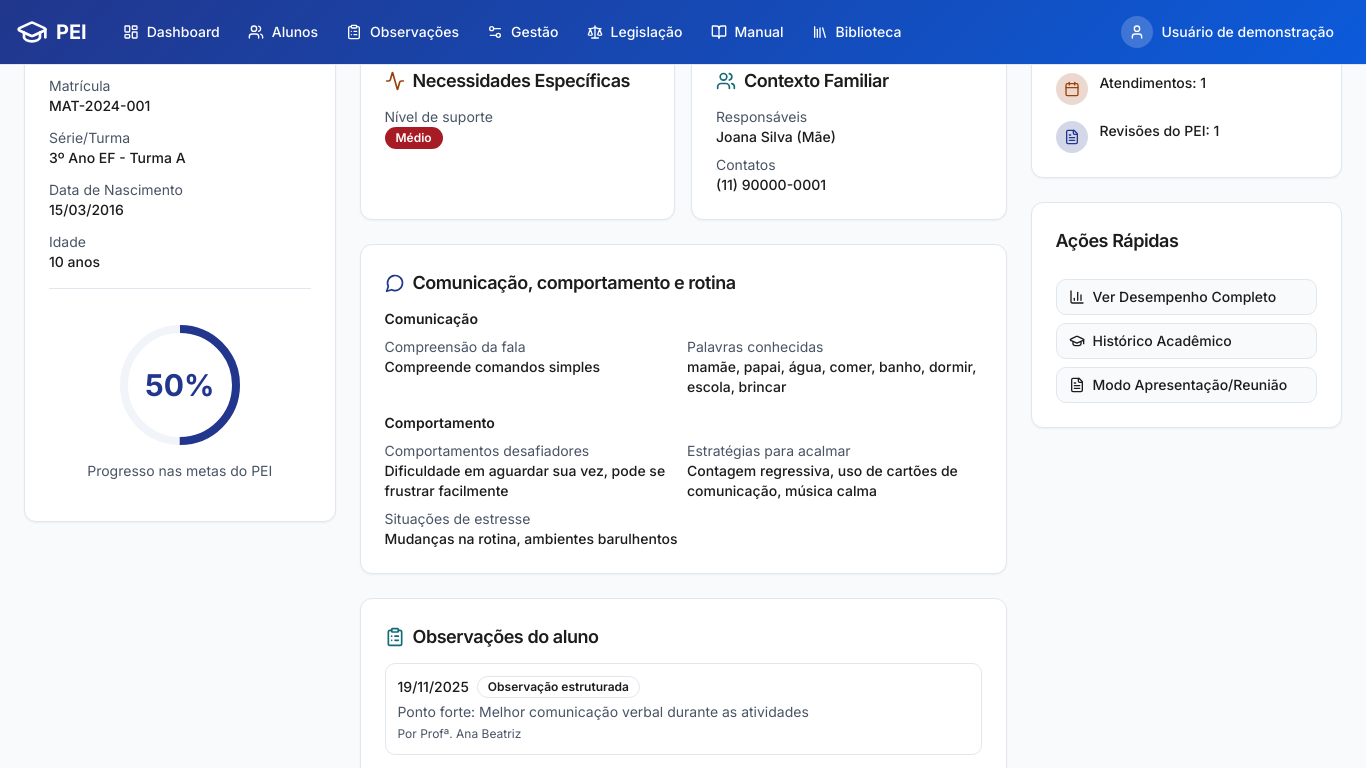
Modo Apresentação: os slides vêm do plano › a apresentação anda pelos slides do estudante, e o exemplo fixo sumiu
The width and height of the screenshot is (1366, 768).
(page scrolled)
What coordinates should you click on to do the following:
click the button "Modo Apresentação/Reunião"
I would click on:
 (1186, 384)
Its box is [1056,366,1317,402].
(page scrolled)
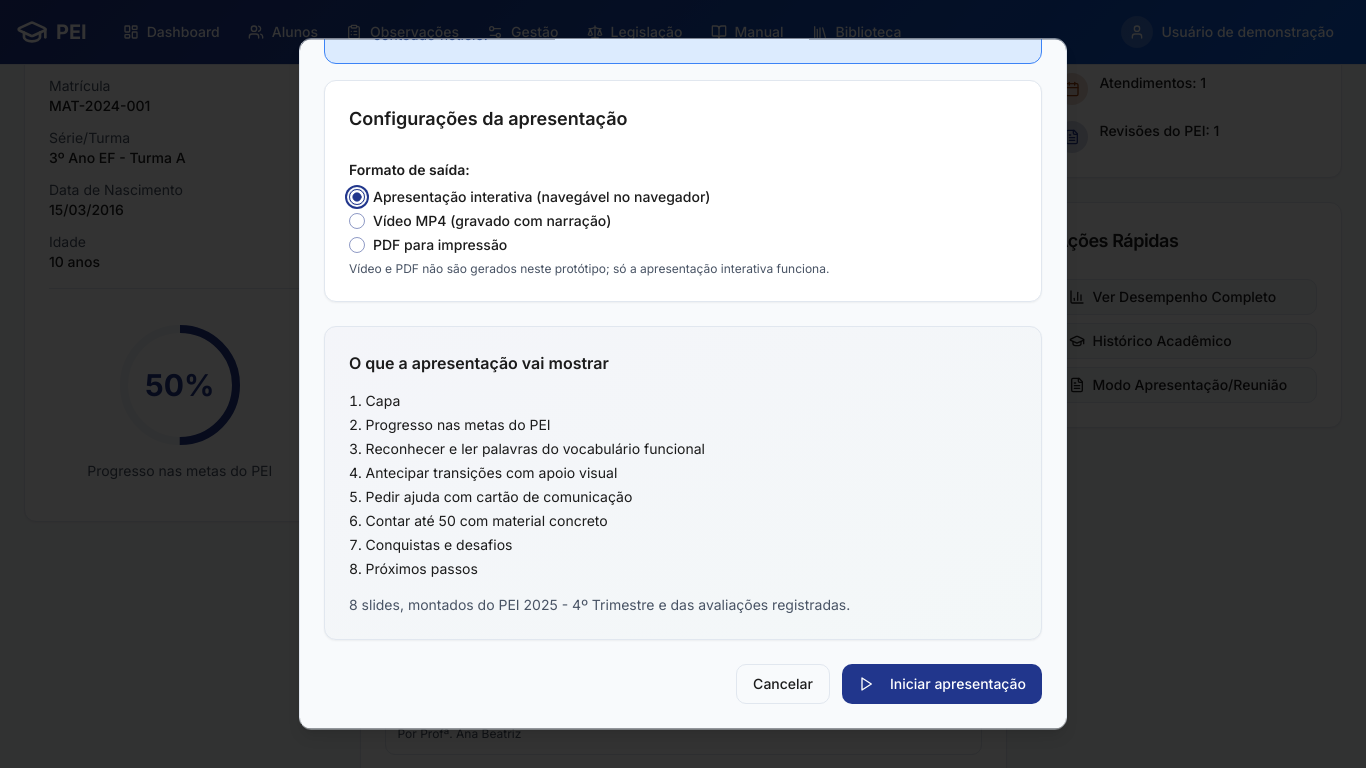
What coordinates should you click on to do the following:
click the button "Iniciar apresentação"
I would click on:
 (942, 684)
Its box is [842,664,1042,704].
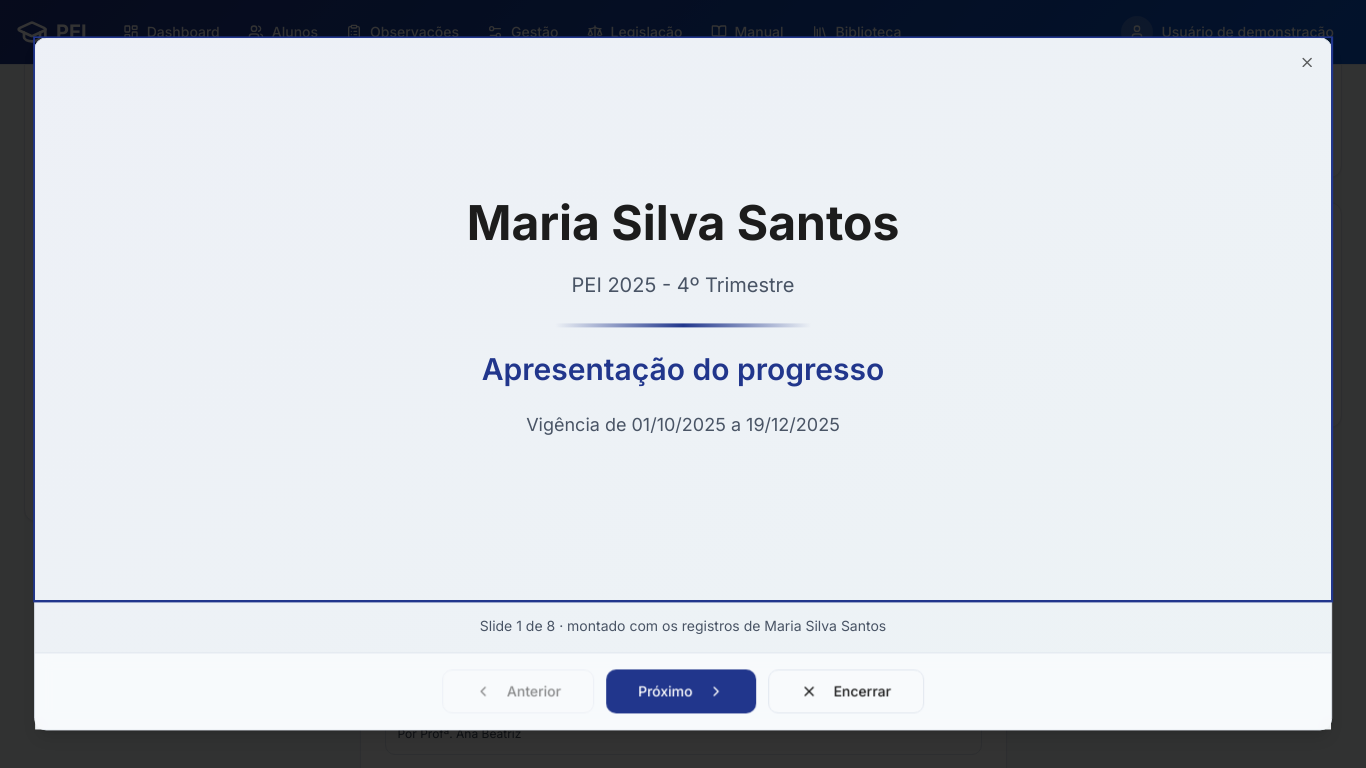
Expected: the text "PEI 2025 - 4º Trimestre" is shown, [572,274,794,298]
Expected: the heading "Maria Silva Santos" is shown, [467,200,899,248]
Expected: the text "Slide 1 de 8" is shown, [480,618,886,635]
What coordinates should you click on to do the following:
click the button "Próximo"
I would click on:
 (681, 692)
Its box is [606,670,757,714].
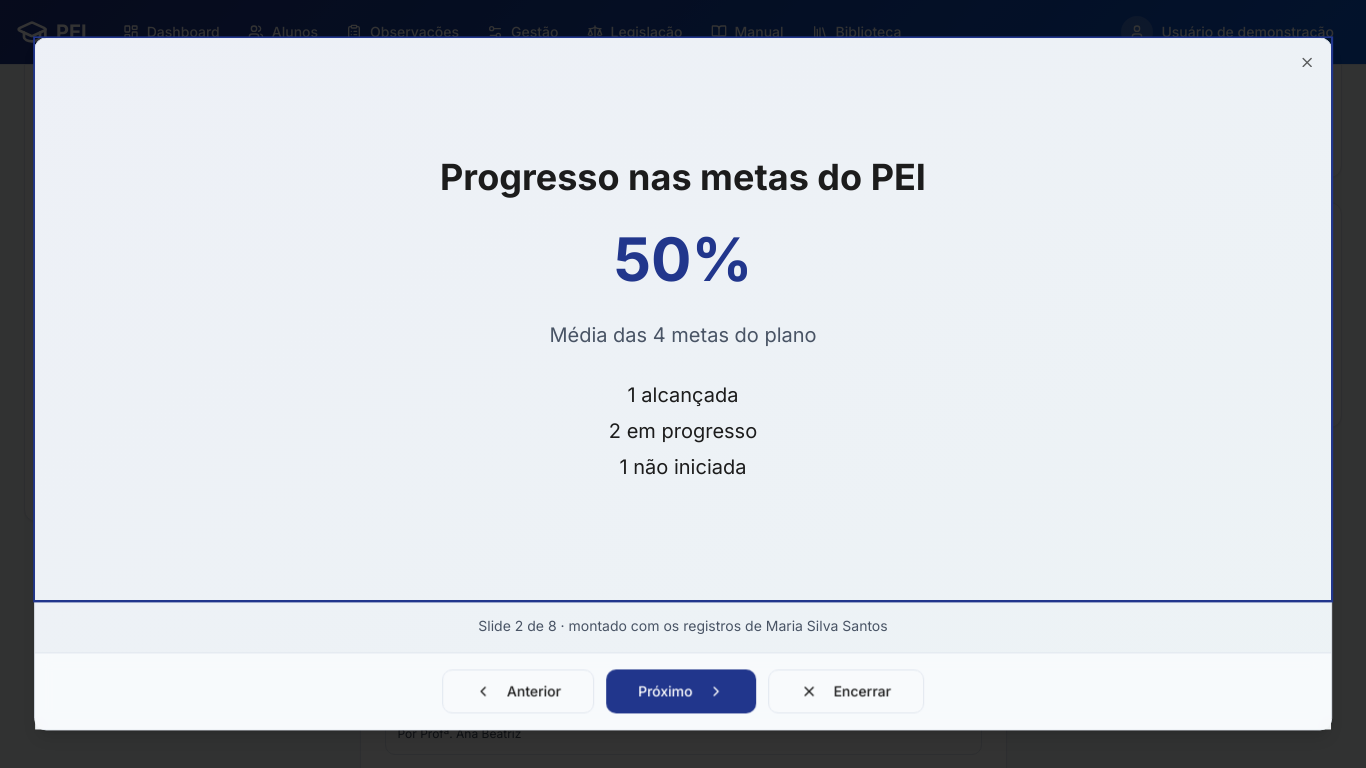
Expected: the text "Slide 2 de 8" is shown, [478,618,888,635]
Expected: the text "50%" is shown, [614,224,752,296]
What coordinates should you click on to do the following:
click the button "Próximo"
I would click on:
 (681, 692)
Its box is [606,670,757,714].
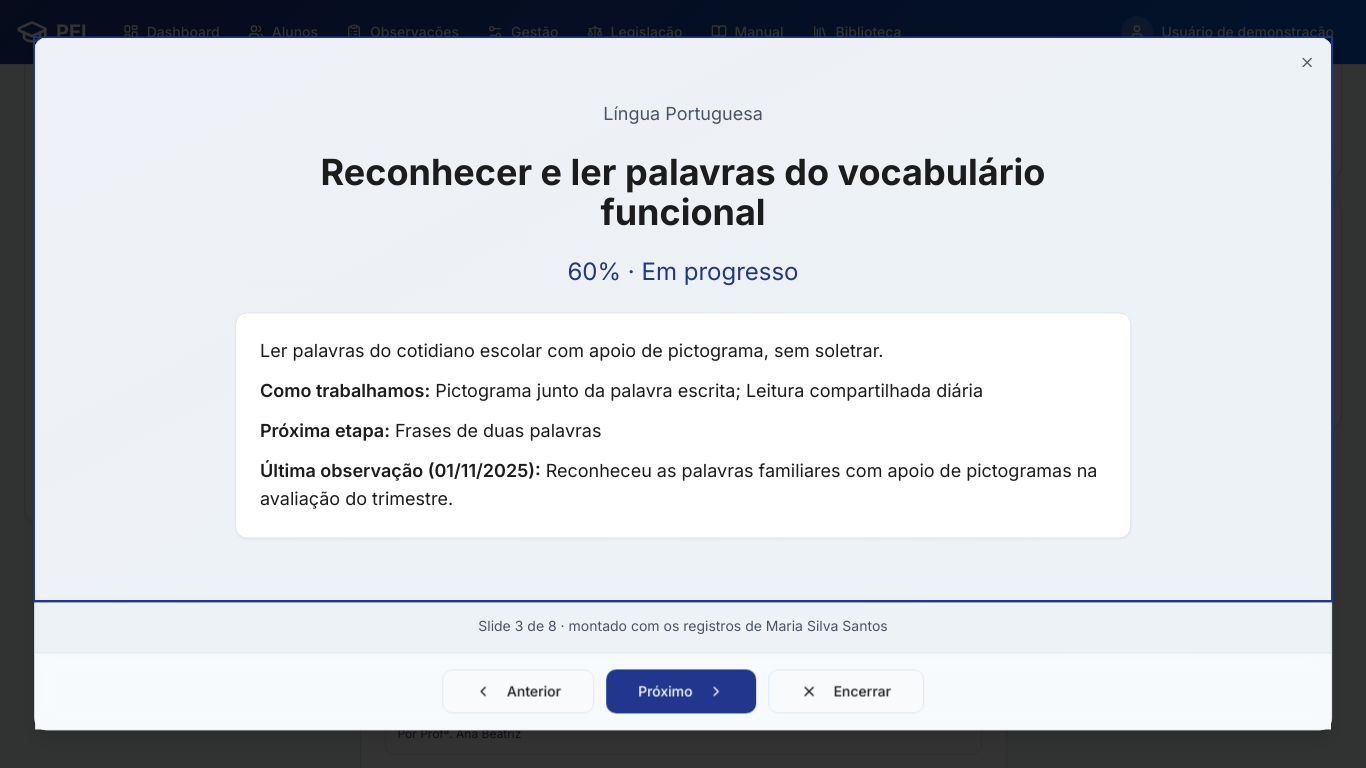
Expected: the text "Slide 3 de 8" is shown, [478,618,888,635]
Expected: the heading "Reconhecer e ler palavras do vocabulário funcional" is shown, [321,150,1045,234]
